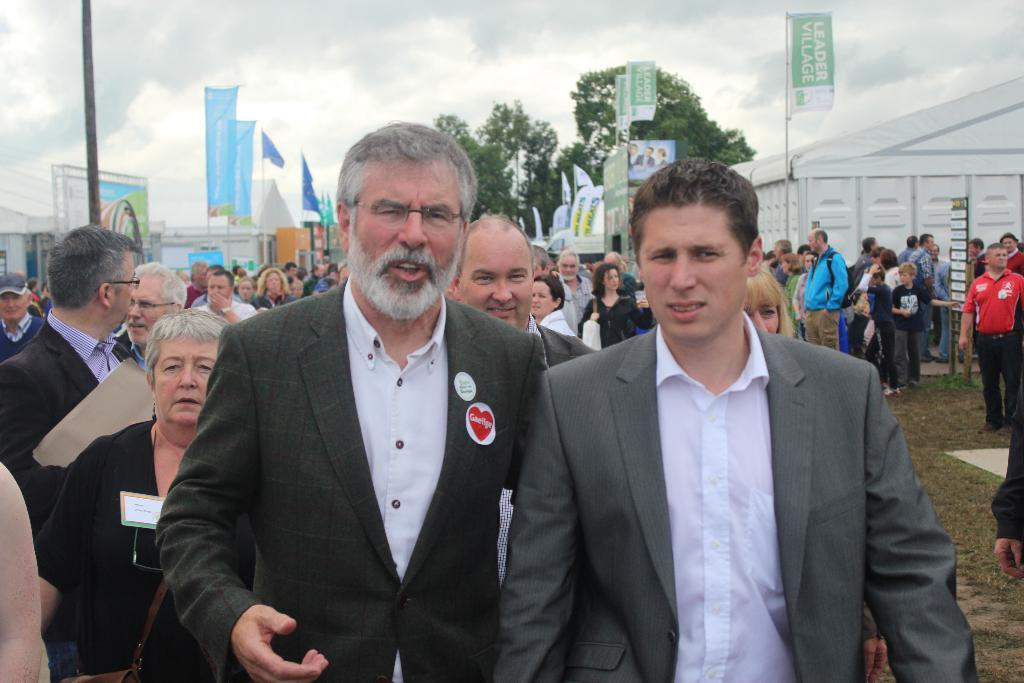Sem Máscara: (343, 160, 463, 324), (636, 198, 743, 335), (458, 237, 532, 326), (149, 333, 218, 422), (126, 282, 162, 341), (744, 280, 778, 334), (113, 248, 134, 323), (0, 291, 22, 320), (534, 279, 550, 317), (985, 247, 1006, 265)
